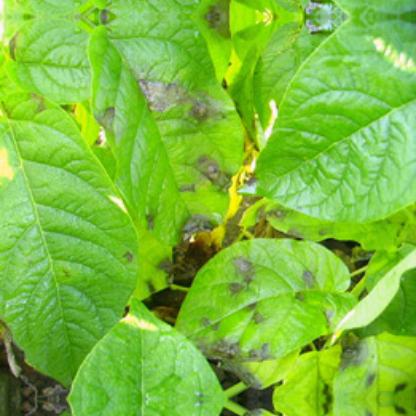Late-Blight: (78, 18, 248, 250), (166, 260, 364, 380)
